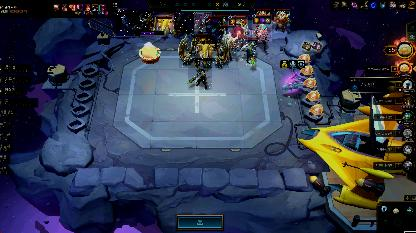1_idas: (154, 15, 174, 33)
1_nasus: (188, 58, 212, 90), (134, 10, 152, 34)
1_nilah: (116, 10, 134, 36)
1_rengar: (174, 11, 194, 33), (194, 11, 212, 31)
1_volibear: (274, 9, 290, 33)
2_graves: (252, 14, 272, 42)
2_idas: (179, 32, 229, 68)
2_jax: (241, 39, 257, 65)
2_nilah: (206, 16, 222, 44)
2_rengar: (228, 16, 248, 48)
